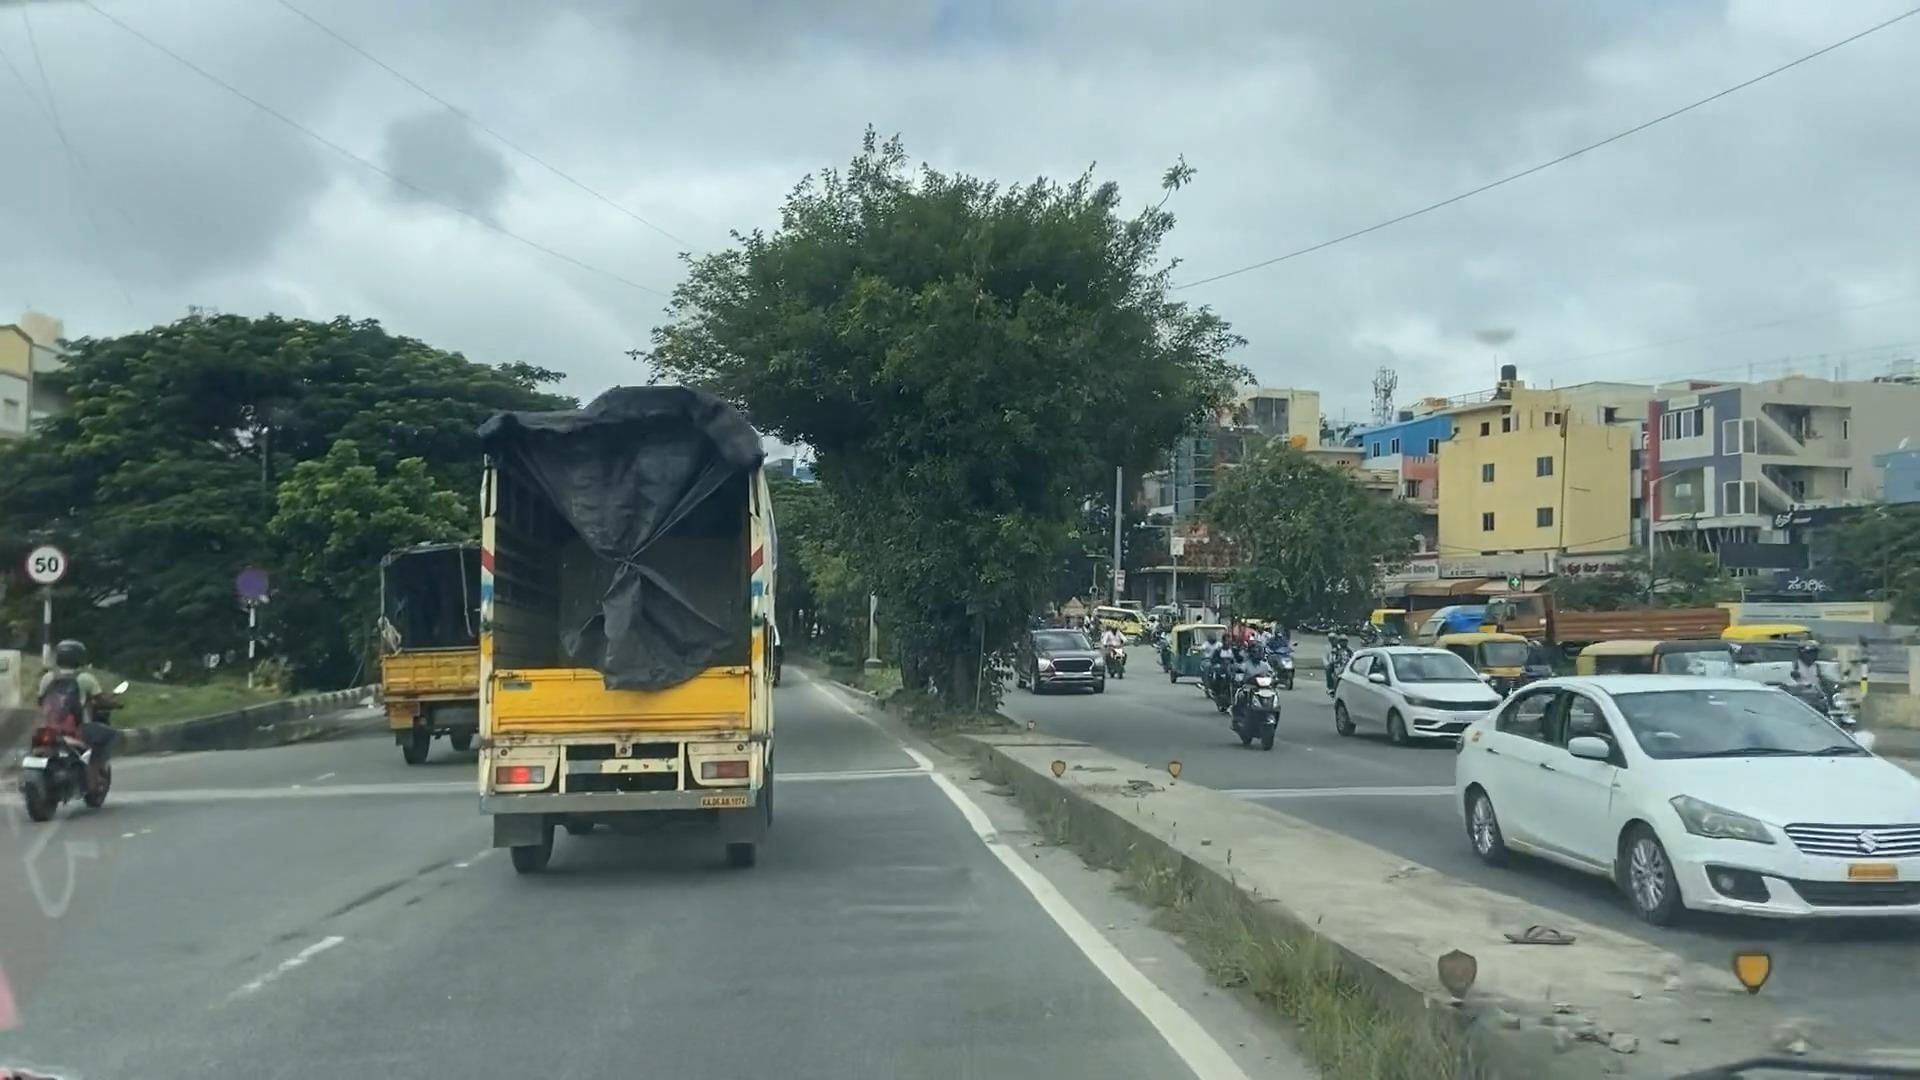HMV: (440, 335, 820, 885)
